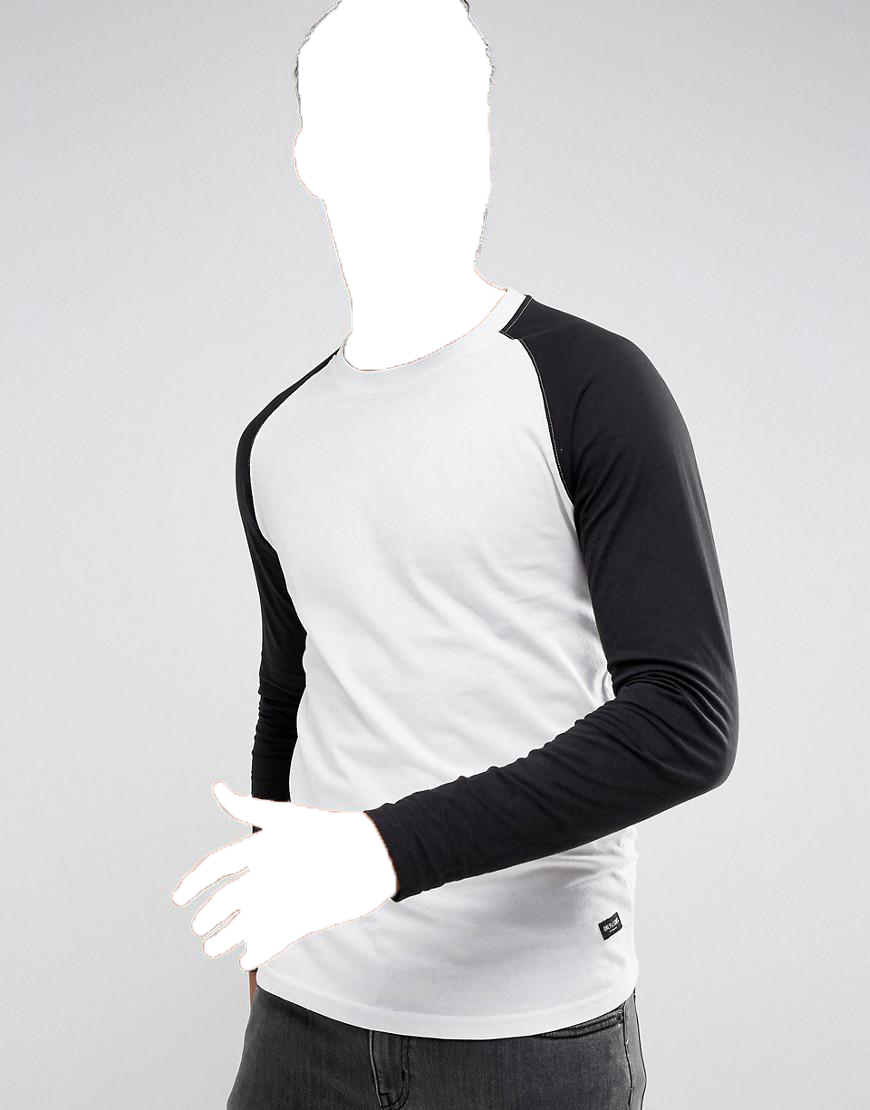teeshirt: (212, 283, 746, 1042)
